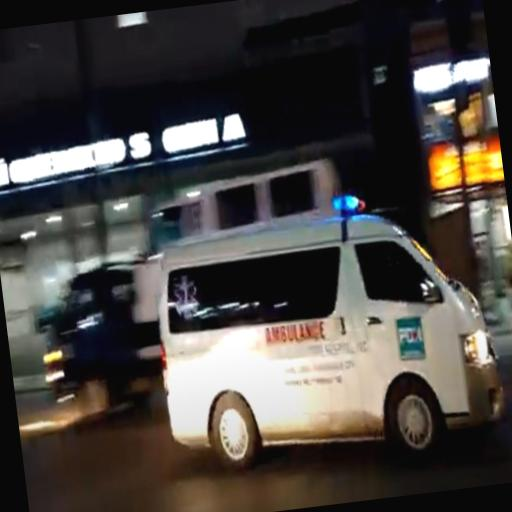Police car: (141, 178, 512, 491)
